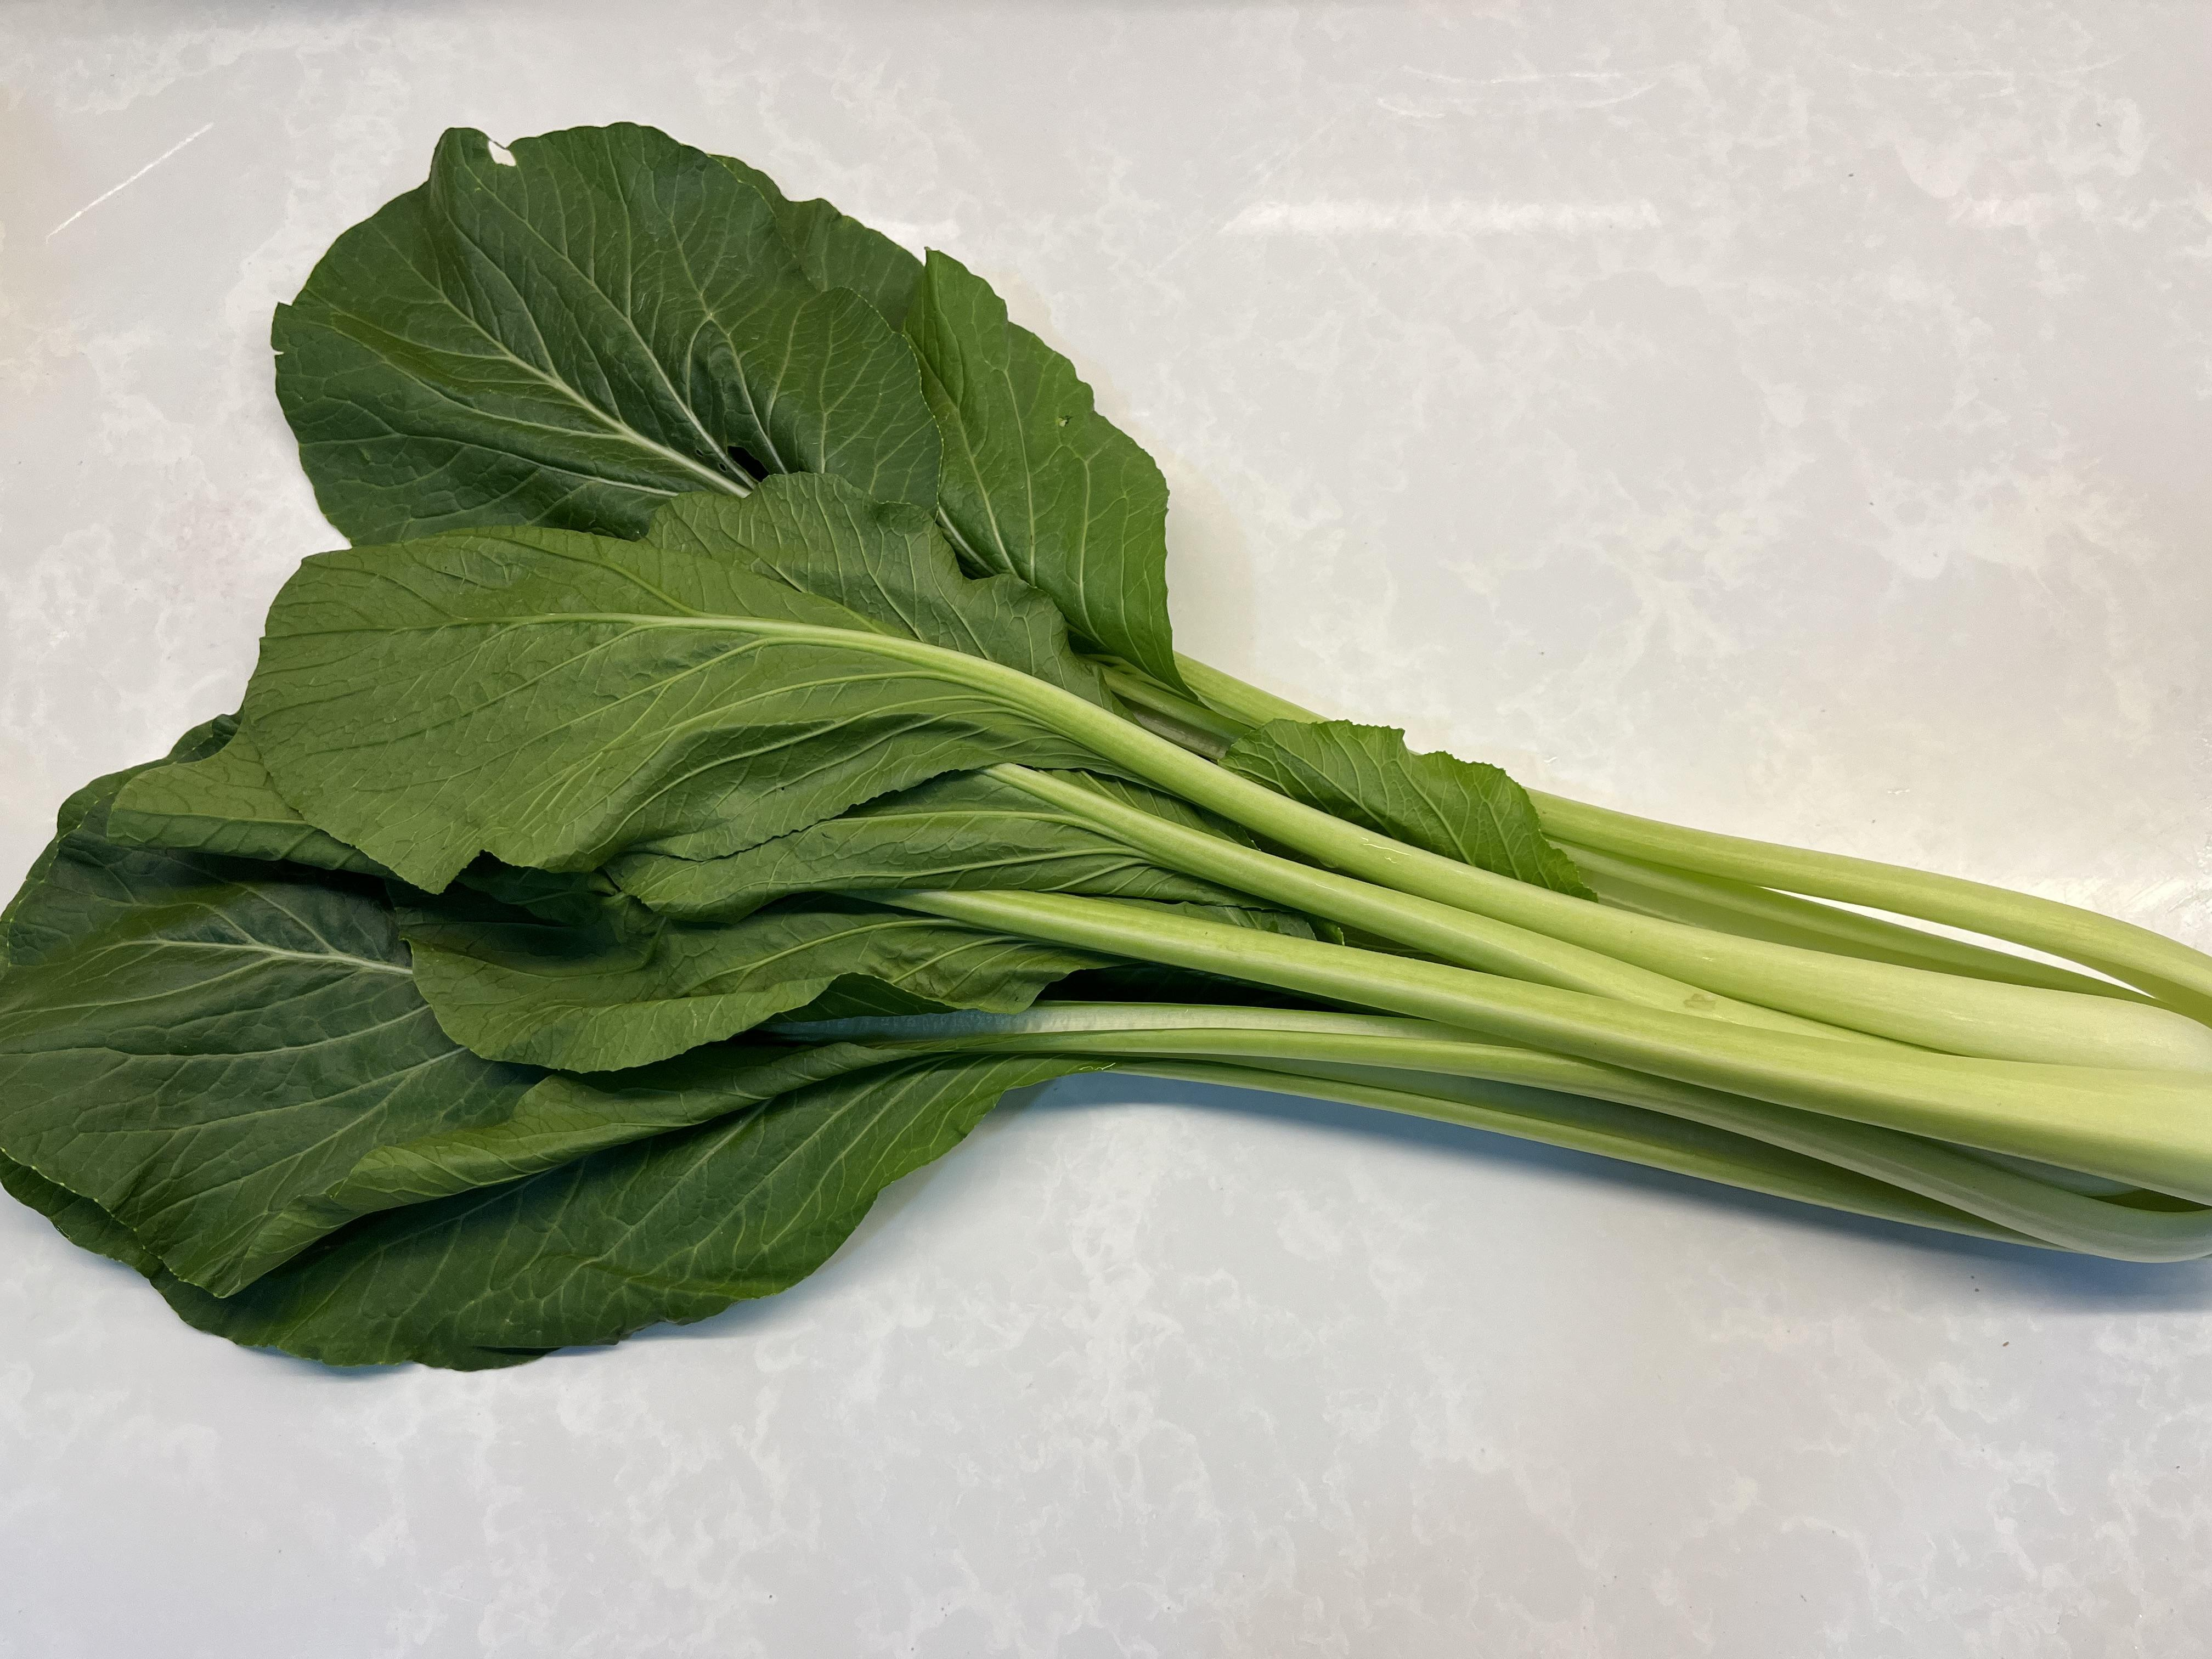Healthy-Pechay: (0, 61, 2161, 1371)
